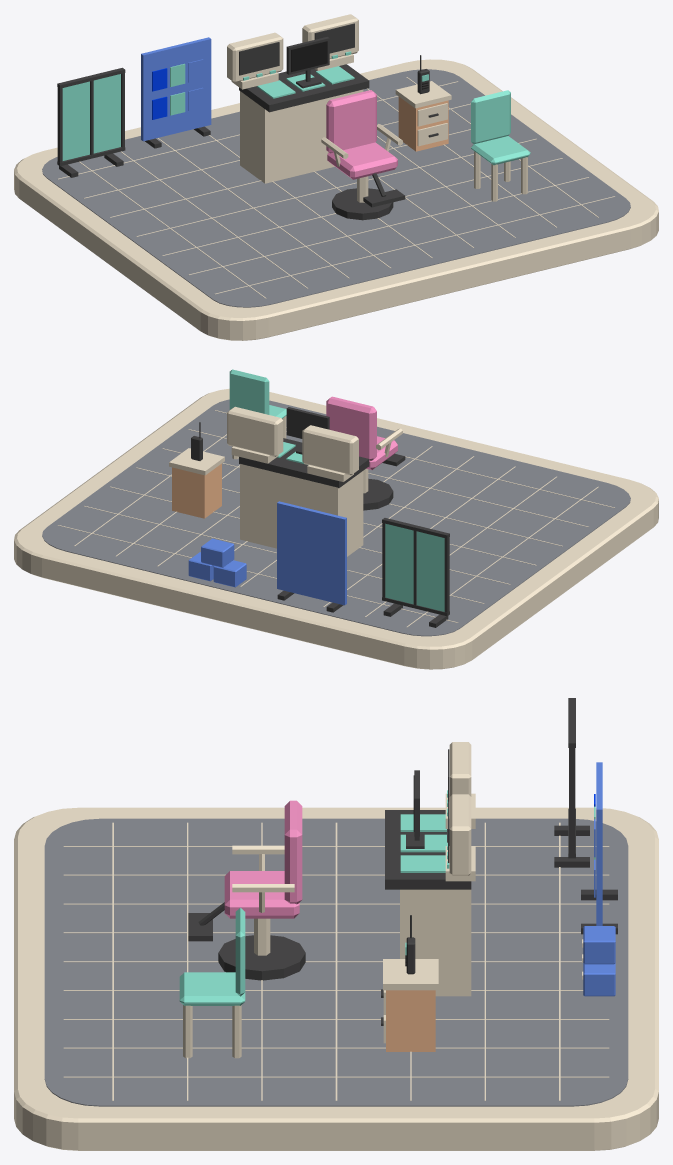
The model's file is room.fbx.
The picture shows the model from 3 angles, top to bottom: view 1: azimuth 30°, elevation 25°; view 2: azimuth 150°, elevation 25°; view 3: azimuth 270°, elevation 25°; orthographic projection. The views are drawn at different scales.
Parts seen in each view (by area): view 1: COM-02 Floor Surface, COM-01 Rounded Base Direct, Console, Panel.001, Back, Panel, Forward blue glazing, Forward blue glazing.001, Backrest, Seat, Frame, Housing (+11 smaller); view 2: COM-02 Floor Surface, COM-01 Rounded Base Direct, Panel.001, Console, Housing, Housing.001, Body, Forward blue glazing.001, Forward blue glazing, Back, Backrest, Panel (+7 smaller); view 3: COM-02 Floor Surface, COM-01 Rounded Base Direct, Console, Body, Panel, Base, Seat, Seat.001, Housing.001, Back, Top, Stacked case.002 (+15 smaller).
Boxes of the visible parts, bbox=[...] form: COM-02 Floor Surface: bbox=[42, 69, 630, 307]; COM-01 Rounded Base Direct: bbox=[14, 59, 658, 340]; Console: bbox=[240, 89, 363, 183]; Panel.001: bbox=[141, 37, 211, 141]; Back: bbox=[326, 90, 376, 153]; Panel: bbox=[239, 64, 369, 112]; Forward blue glazing: bbox=[62, 81, 89, 160]; Forward blue glazing.001: bbox=[93, 74, 120, 153]; Backrest: bbox=[471, 90, 510, 144]; Seat: bbox=[327, 142, 397, 179]; Frame: bbox=[286, 37, 329, 88]; Housing: bbox=[227, 32, 283, 82]; COM-02 Floor Surface: bbox=[42, 399, 630, 636]; COM-01 Rounded Base Direct: bbox=[14, 388, 658, 669]; Panel.001: bbox=[277, 501, 346, 605]; Console: bbox=[240, 464, 363, 556]; Housing: bbox=[302, 425, 358, 475]; Housing.001: bbox=[227, 406, 283, 456]; Body: bbox=[172, 463, 221, 518]; Forward blue glazing.001: bbox=[385, 523, 413, 604]; Forward blue glazing: bbox=[416, 531, 444, 611]; Back: bbox=[326, 396, 376, 460]; Backrest: bbox=[229, 369, 269, 414]; Panel: bbox=[239, 438, 369, 488]; COM-02 Floor Surface: bbox=[44, 818, 628, 1106]; COM-01 Rounded Base Direct: bbox=[14, 807, 658, 1150]; Console: bbox=[400, 889, 471, 996]; Body: bbox=[386, 990, 435, 1051]; Panel: bbox=[385, 810, 471, 889]; Base: bbox=[218, 935, 305, 980]; Seat: bbox=[224, 871, 299, 918]; Seat.001: bbox=[179, 972, 245, 1005]; Housing.001: bbox=[449, 794, 471, 875]; Back: bbox=[284, 800, 302, 904]; Top: bbox=[383, 959, 438, 990]; Stacked case.002: bbox=[583, 926, 615, 964].
Size of the model in its own units: 600 by 188 by 520.
